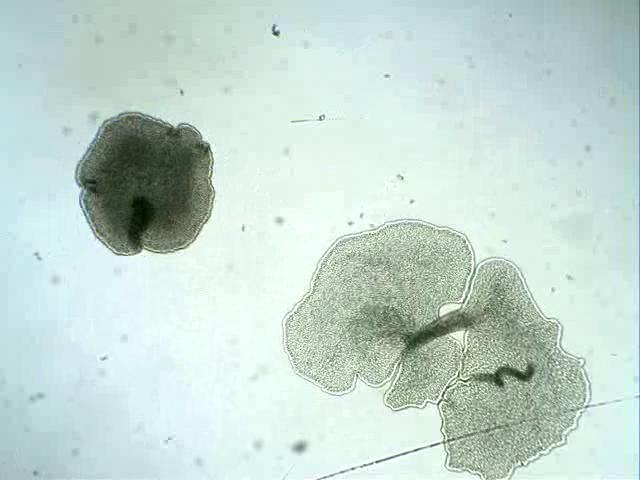Placozoan: (407, 255, 593, 480), (282, 216, 476, 412), (74, 111, 216, 256)
